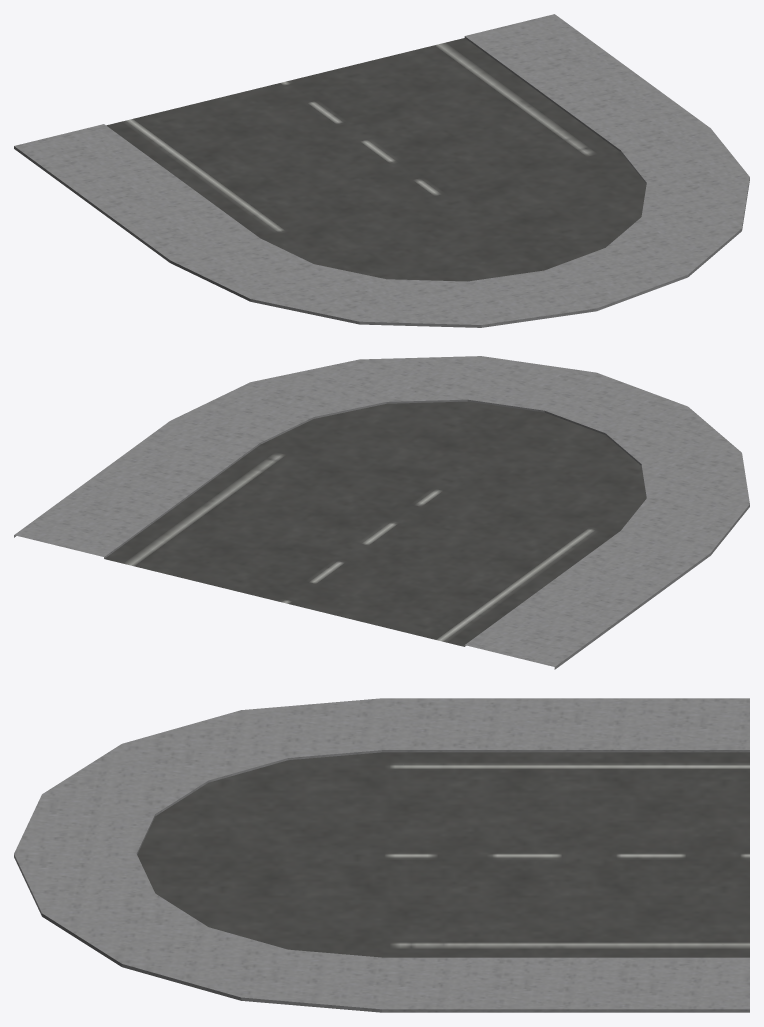
Rendered from Road_End.glb.
The picture shows the model from 3 angles, top to bottom: view 1: azimuth 30°, elevation 25°; view 2: azimuth 150°, elevation 25°; view 3: azimuth 270°, elevation 25°; orthographic projection. The views are drawn at different scales.
Parts seen in each view (by area): view 1: Object_16; view 2: Object_16; view 3: Object_16.
Part boxes in pixels (x1=…): Object_16: x1=14, y1=14, x2=749, y2=327; Object_16: x1=14, y1=356, x2=749, y2=669; Object_16: x1=14, y1=698, x2=749, y2=1012.
Size of the model in its own units: 6 by 0.03 by 6.
1 material, 1 textured.
